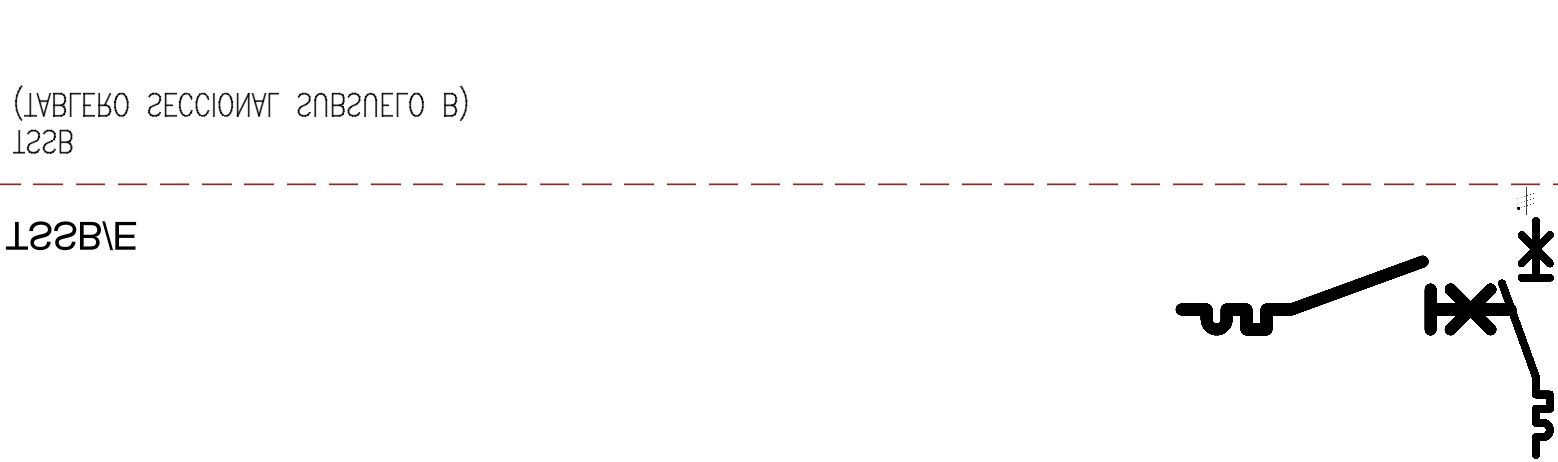interruptor_termomagnetico: (1173, 253, 1519, 338), (1496, 214, 1556, 460)
